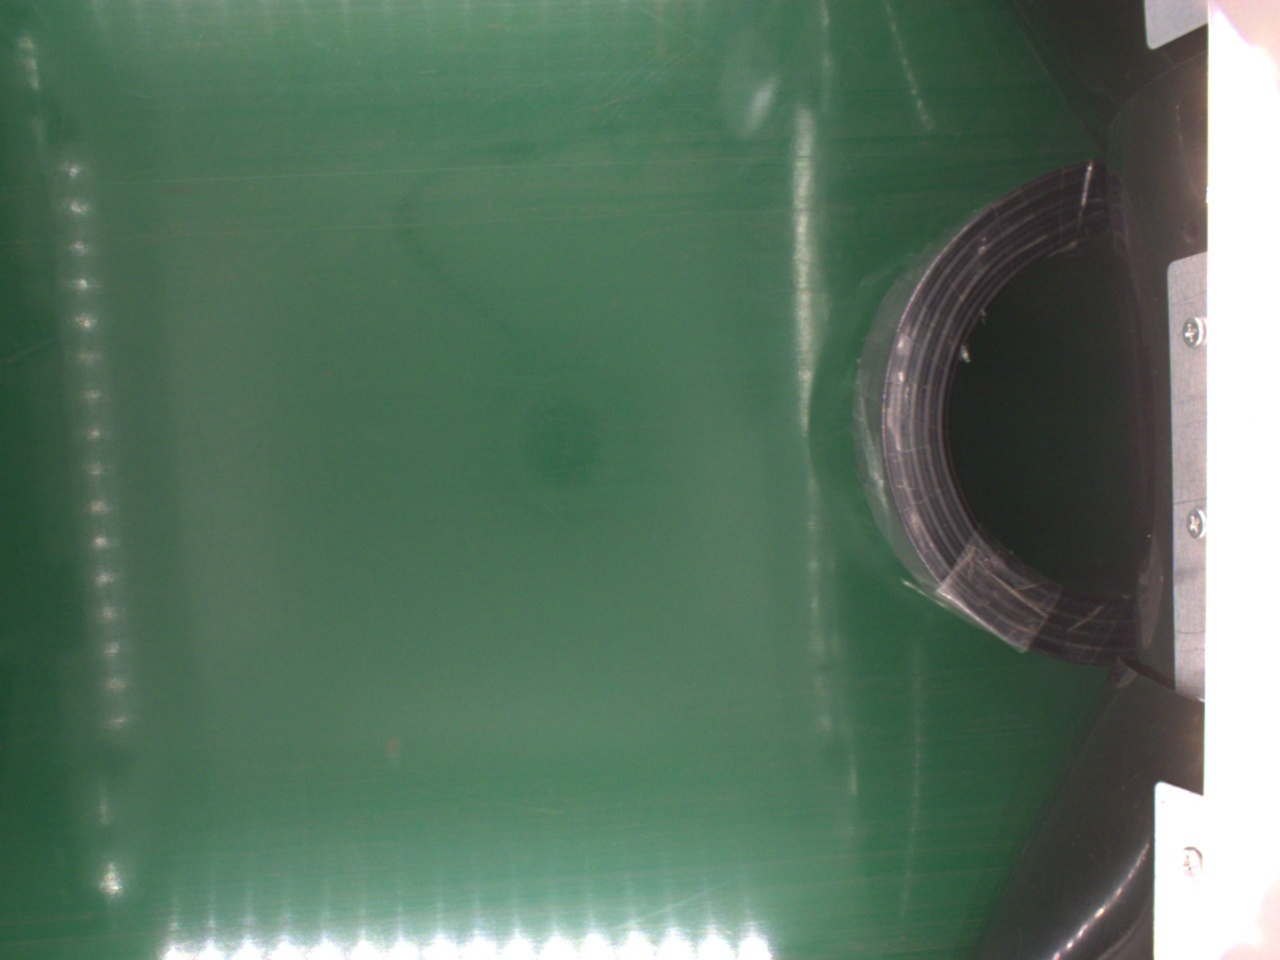black: (854, 159, 1140, 675)
